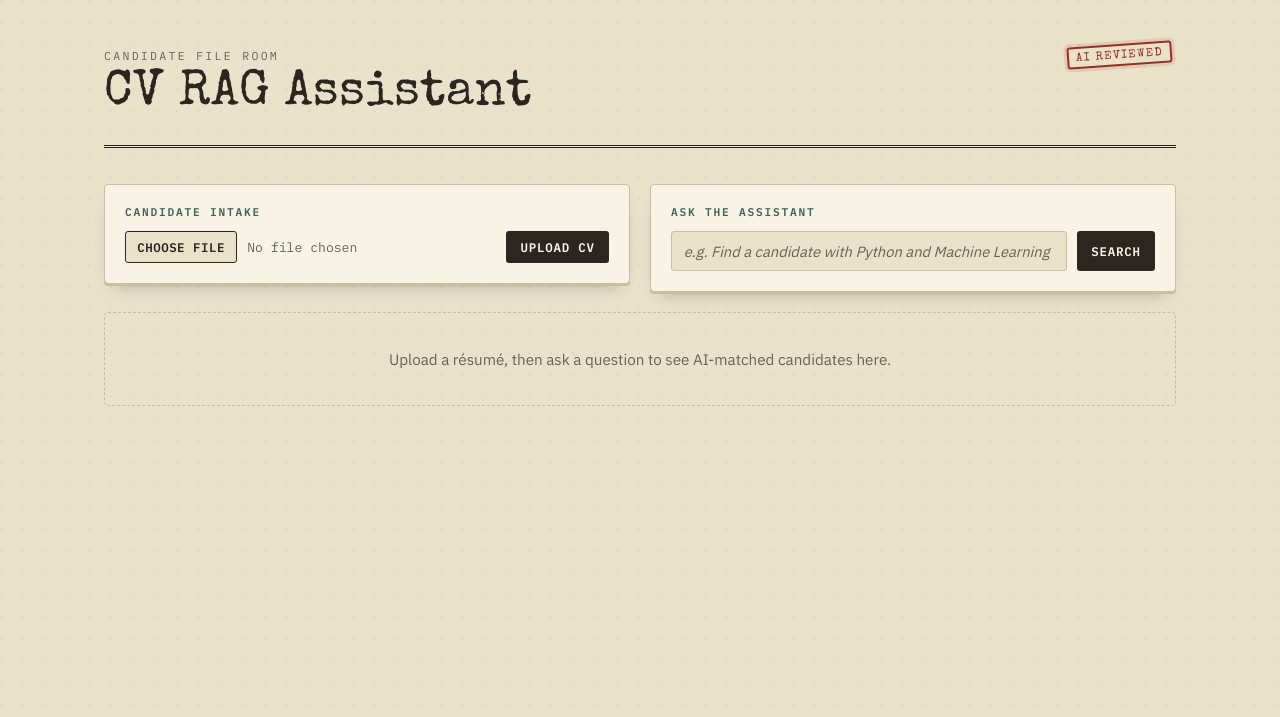
Test: App › shows query results after a search
Replace the text in the field named "Ask a question about candidates" with "Who knows Python?" at (869,251), box 671,231 -> 1067,271
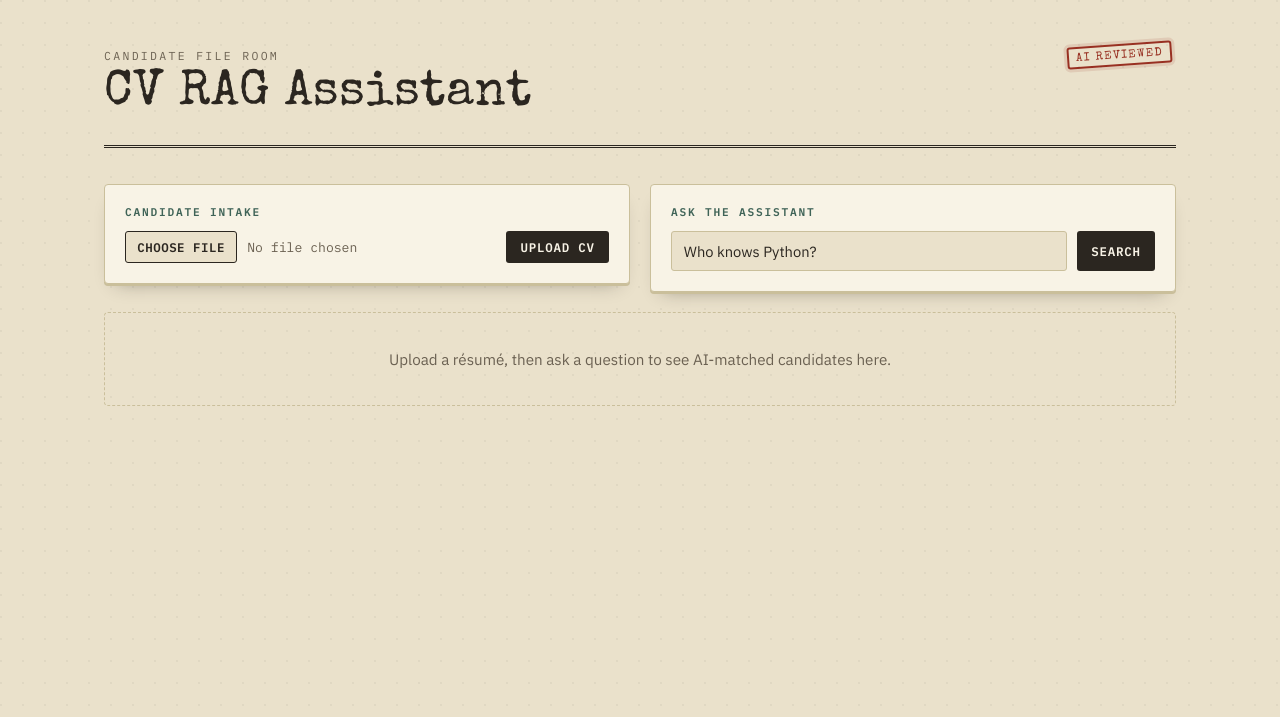
Click the button "Search" at (1116,251), box 1077,231 -> 1155,271
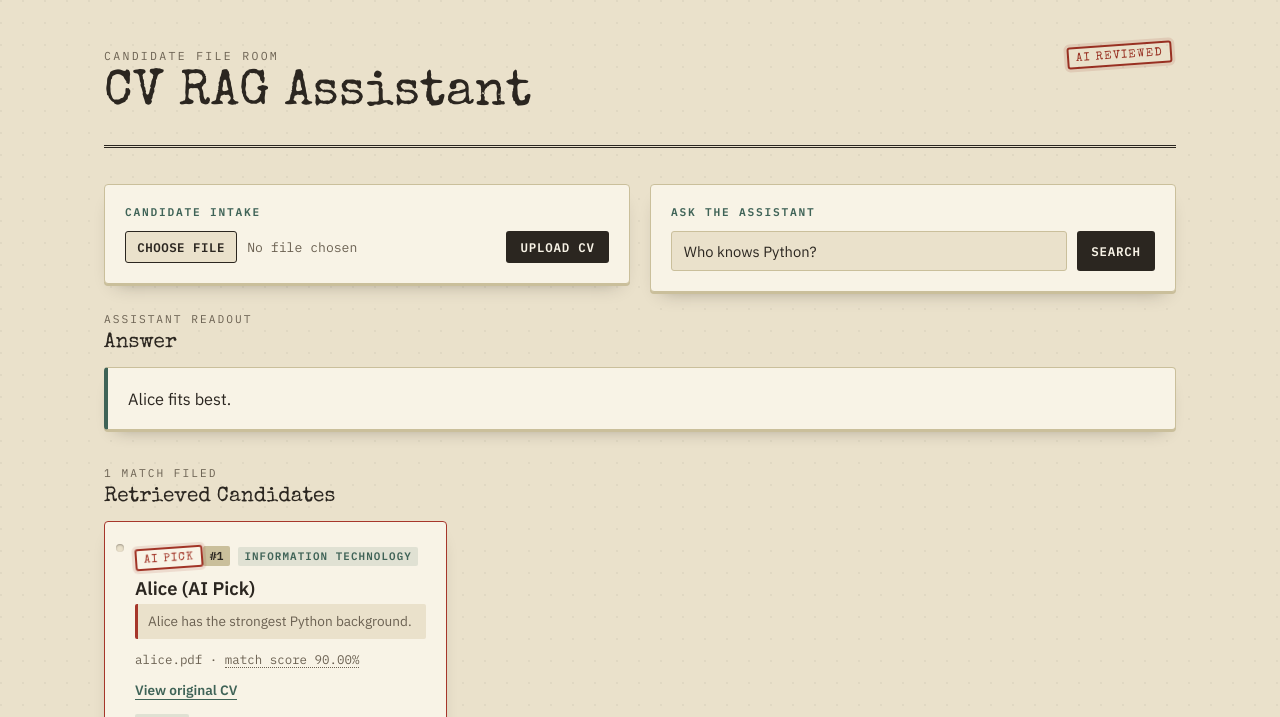
Check: the text "Alice fits best." is shown, box 128,388 -> 231,409
